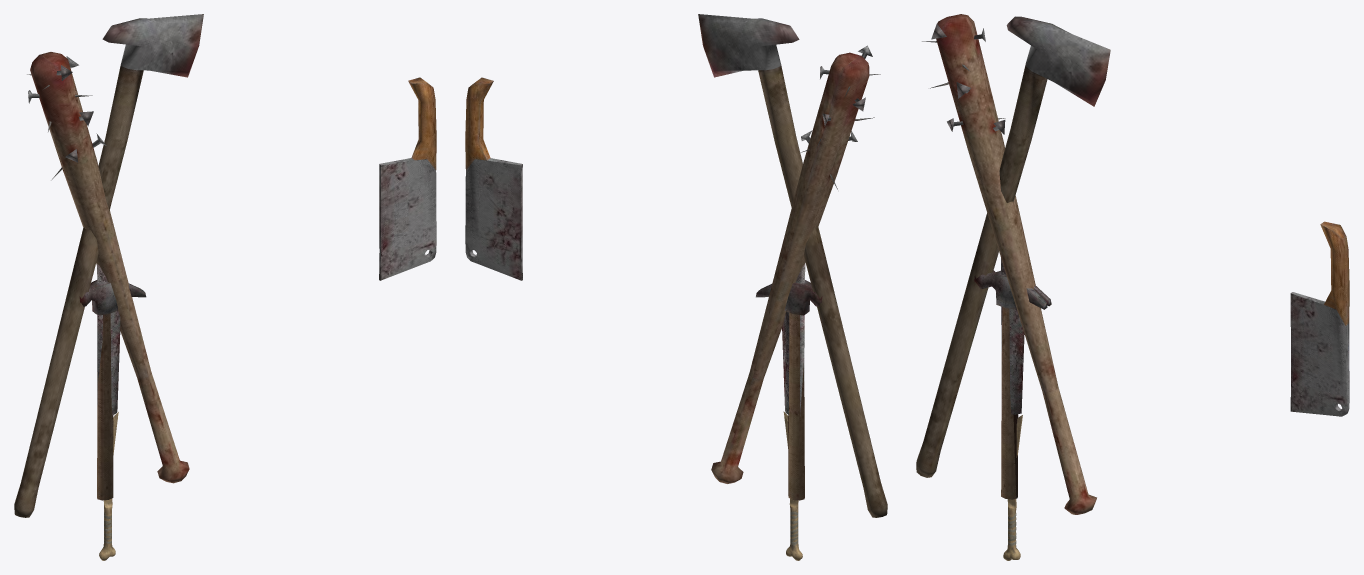
Rendered from melee.glb.
The picture shows the model from 3 angles, left to right: view 1: azimuth 30°, elevation 25°; view 2: azimuth 150°, elevation 25°; view 3: azimuth 330°, elevation 25°; orthographic projection. The views are drawn at different scales.
Visible parts, largest first — view 1: mel_axe, mel_bat, mel_cleaver, mel_hammer, mel_machete, mel_boneknife; view 2: mel_axe, mel_bat, mel_cleaver, mel_hammer, mel_machete, mel_boneknife; view 3: mel_bat, mel_axe, mel_cleaver, mel_hammer, mel_machete, mel_boneknife.
Boxes of the visible parts, x1,y1,x2,y2 form: mel_axe: (14, 14, 203, 517); mel_bat: (27, 52, 189, 483); mel_cleaver: (379, 77, 436, 280); mel_hammer: (79, 280, 146, 500); mel_machete: (97, 264, 120, 439); mel_boneknife: (99, 412, 118, 560); mel_axe: (698, 14, 887, 517); mel_bat: (711, 45, 880, 483); mel_cleaver: (465, 77, 522, 280); mel_hammer: (756, 280, 822, 500); mel_machete: (782, 263, 805, 495); mel_boneknife: (783, 411, 802, 560); mel_bat: (922, 14, 1096, 514); mel_axe: (916, 16, 1110, 477); mel_cleaver: (1290, 221, 1349, 416); mel_hammer: (974, 270, 1051, 499); mel_machete: (1001, 258, 1024, 498); mel_boneknife: (1003, 415, 1022, 560).
Bounding box in the file's own units: 6.02 × 7.27 × 0.8194.
Materials: 6 (6 with a texture image).
